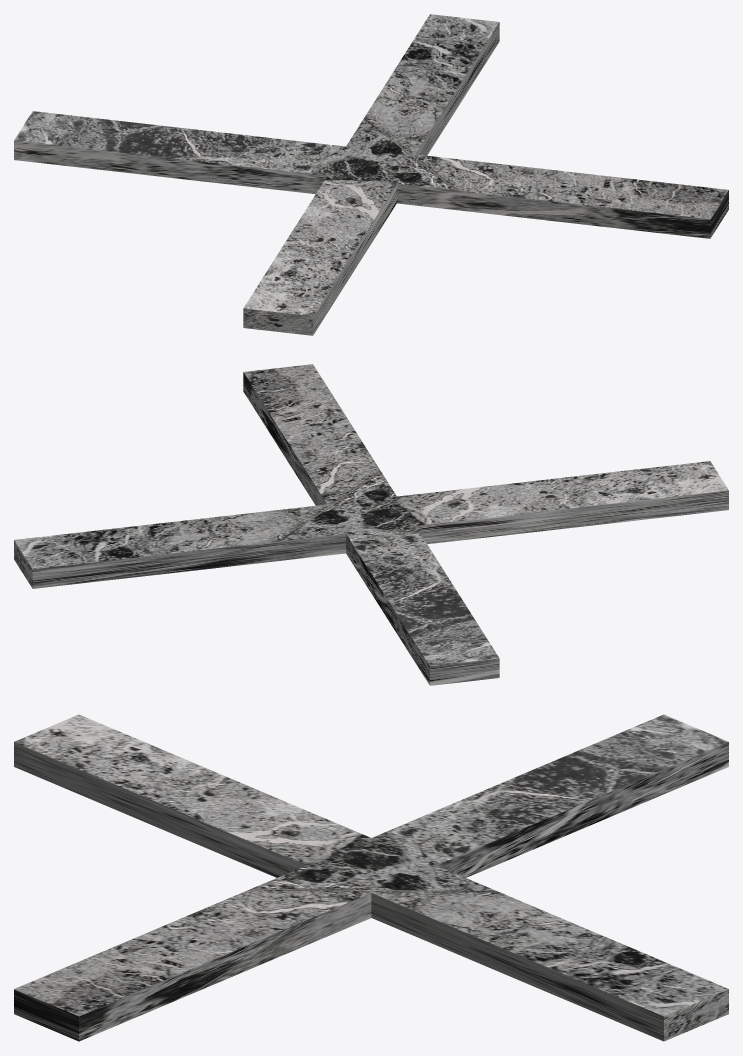
The model's file is cross.obj.
3 renders of one model, top to bottom at view 1: azimuth 30°, elevation 25°; view 2: azimuth 150°, elevation 25°; view 3: azimuth 270°, elevation 25°, orthographic. The views are drawn at different scales.
Visible parts, largest first — view 1: Cube; view 2: Cube; view 3: Cube.
Boxes of the visible parts, x1=… form: Cube: x1=14, y1=14, x2=728, y2=335; Cube: x1=14, y1=364, x2=728, y2=685; Cube: x1=14, y1=714, x2=728, y2=1041.
Bounding box in the file's own units: 1.56 × 0.06 × 1.56.
